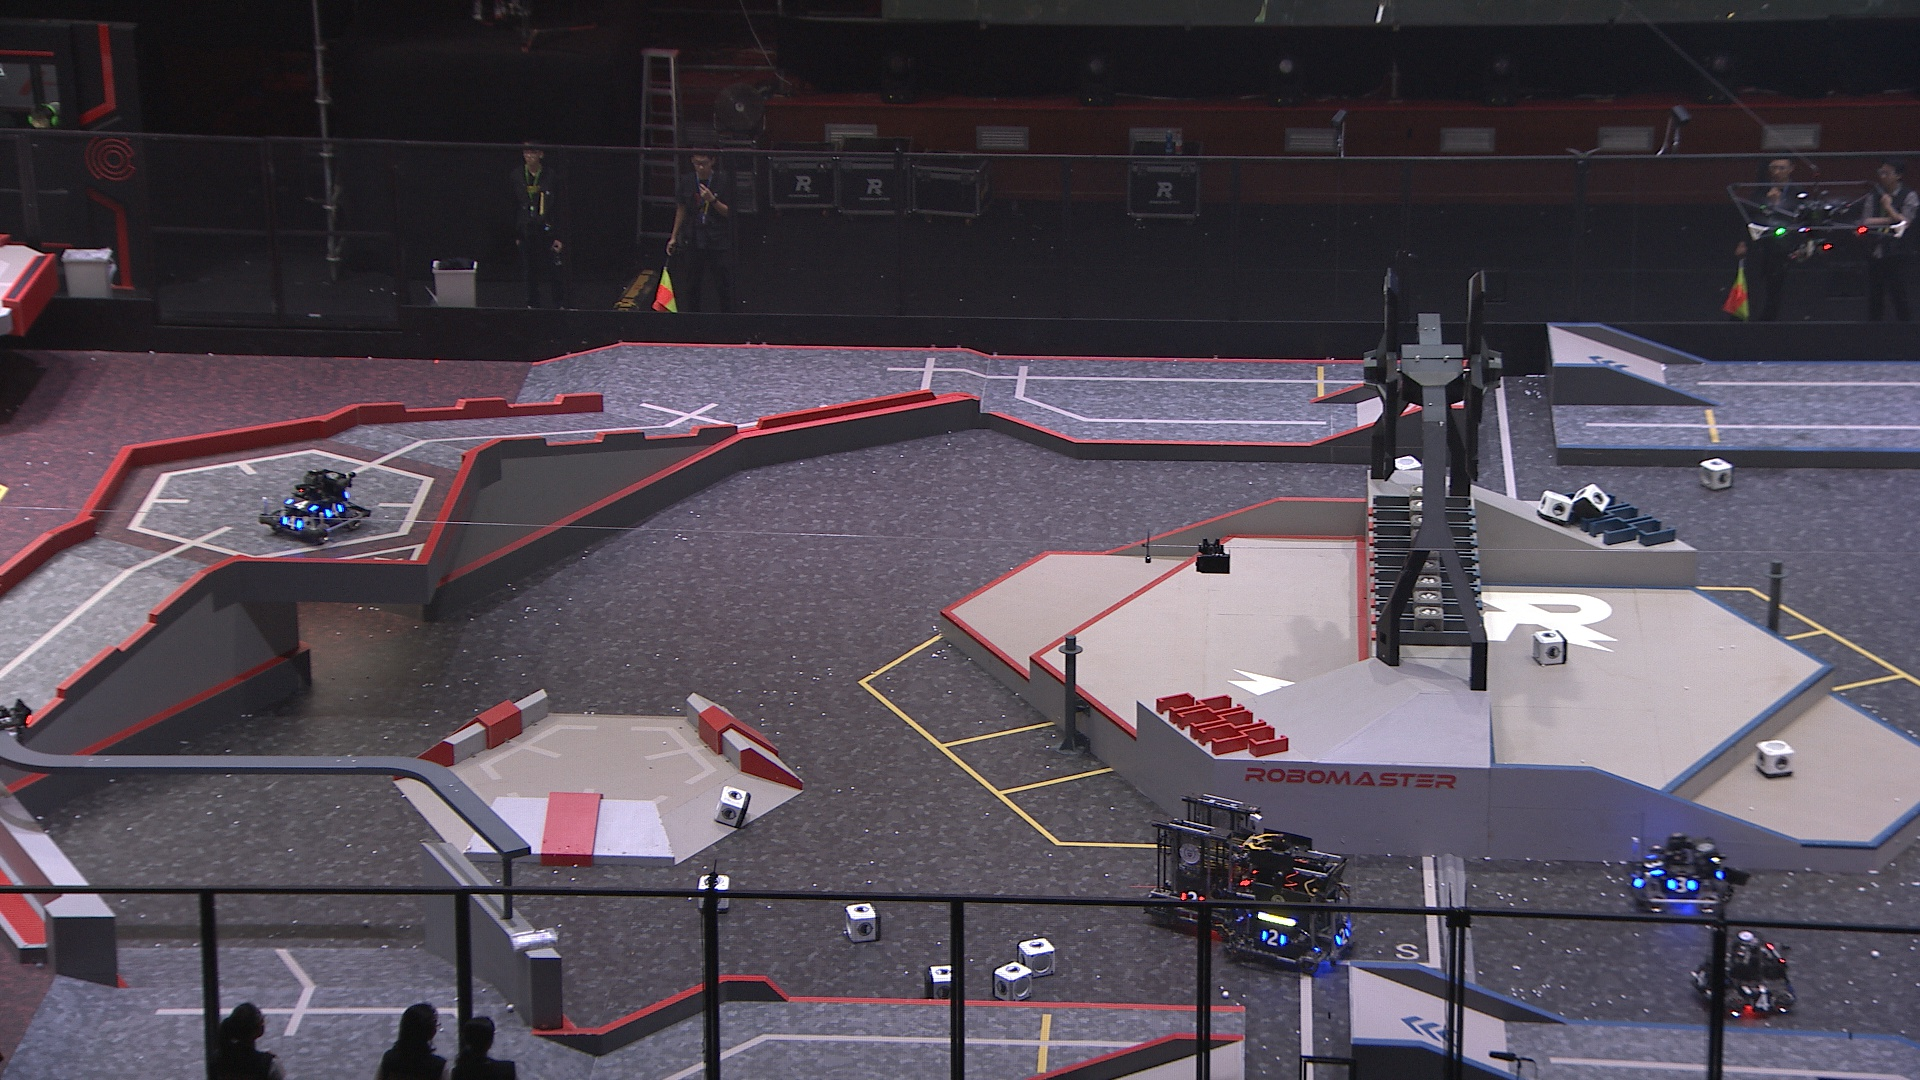armor: (1258, 927, 1290, 949), (285, 495, 319, 514), (320, 498, 347, 524), (1749, 992, 1778, 1014), (1664, 876, 1698, 893), (1642, 853, 1665, 877), (280, 513, 306, 533), (1178, 889, 1205, 907), (1693, 965, 1712, 989), (1332, 924, 1352, 945)
car: (1220, 825, 1367, 972), (1141, 789, 1267, 930), (1687, 927, 1803, 1019), (255, 462, 372, 547), (1626, 828, 1727, 920)
